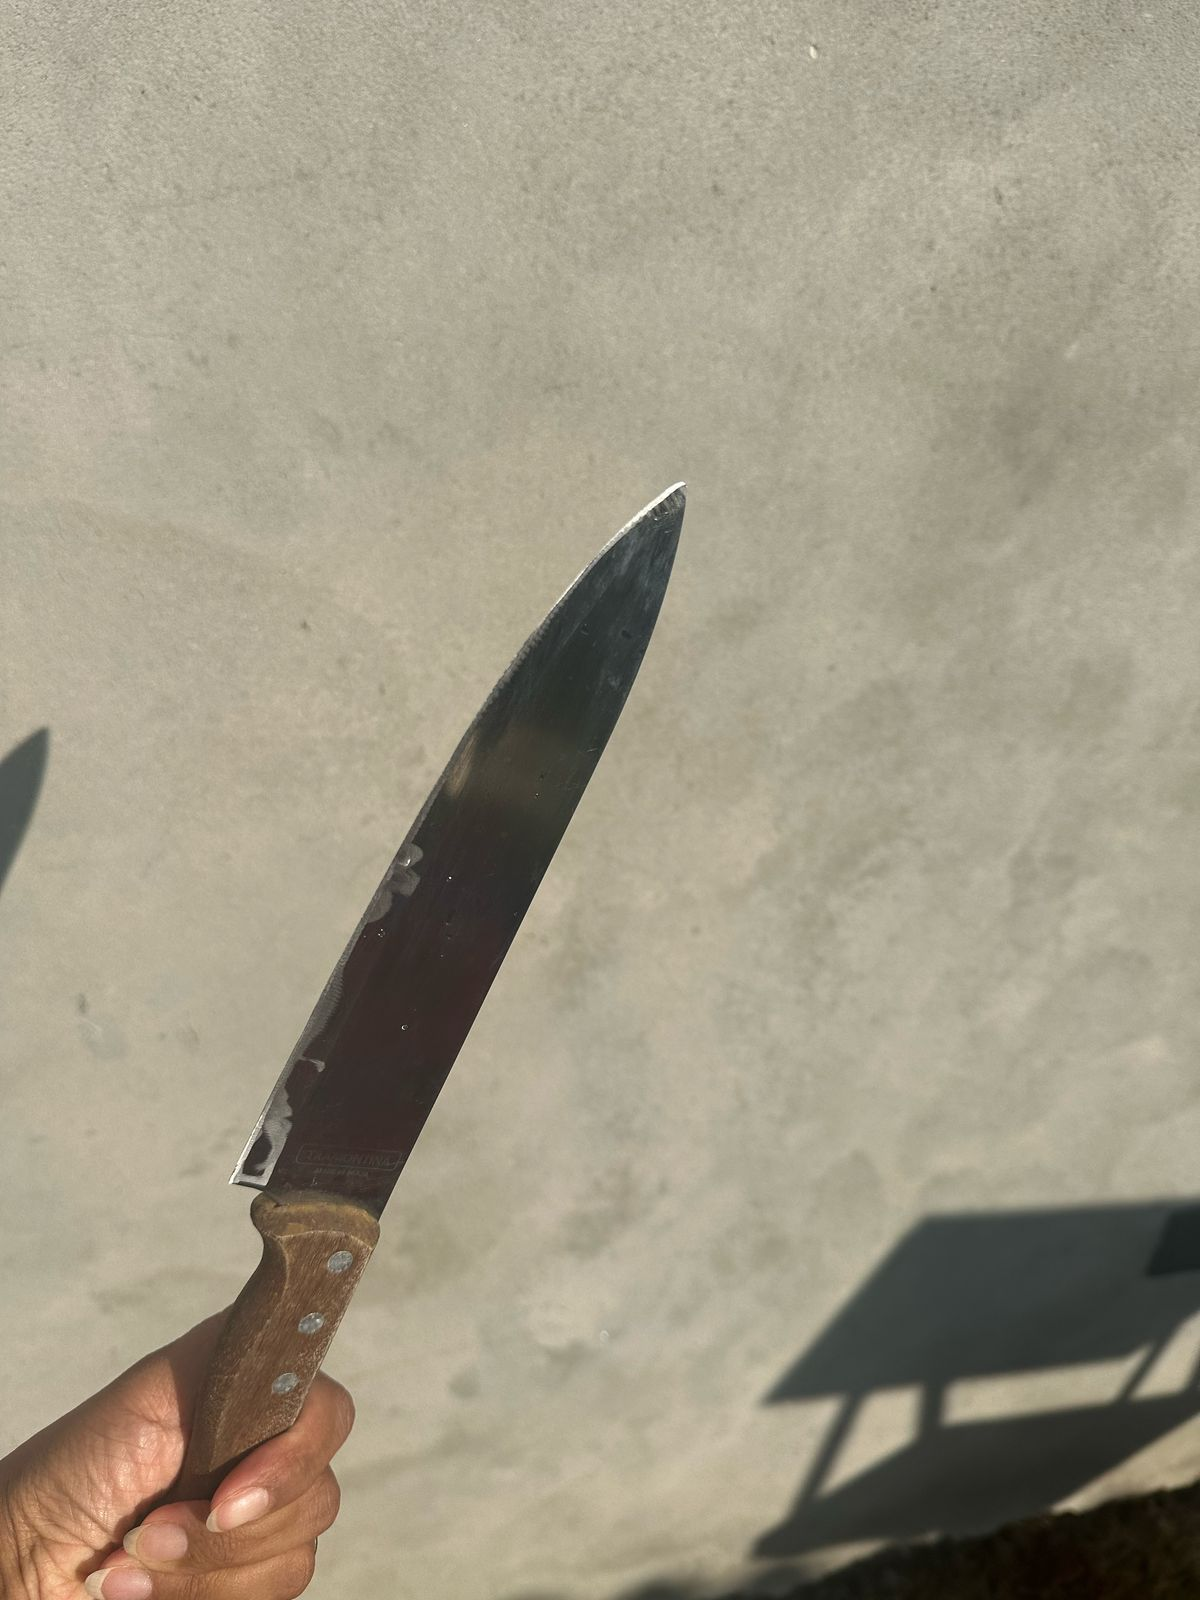faca: (223, 455, 712, 1304)
